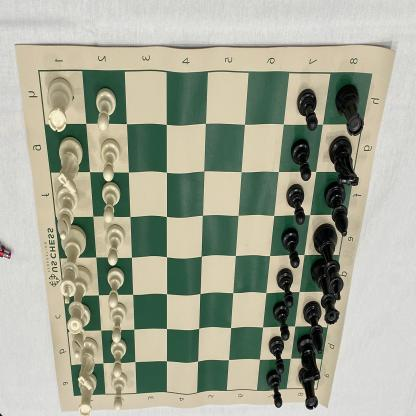black-bishop: (325, 184, 348, 238), (304, 302, 324, 354)
black-king: (312, 224, 342, 302)
black-knight: (328, 136, 358, 186), (297, 336, 321, 382)
black-pawn: (297, 89, 318, 131), (291, 140, 311, 182), (281, 227, 300, 268), (272, 301, 290, 342), (286, 184, 304, 224), (276, 268, 294, 307), (268, 337, 286, 373), (267, 370, 283, 409)
black-queen: (311, 261, 340, 326)
black-rook: (335, 84, 363, 136), (299, 368, 318, 410)
white-bishop: (56, 186, 79, 240), (70, 304, 90, 358)
white-king: (60, 225, 86, 304)
white-knight: (56, 136, 83, 195), (78, 337, 98, 390)
white-pawn: (93, 87, 116, 130), (99, 181, 121, 223), (100, 138, 121, 182), (106, 268, 126, 308), (106, 225, 125, 266), (109, 302, 126, 343), (110, 340, 127, 377), (112, 372, 127, 413)
white-queen: (67, 266, 92, 335)
white-rook: (47, 78, 73, 133), (78, 373, 97, 416)
